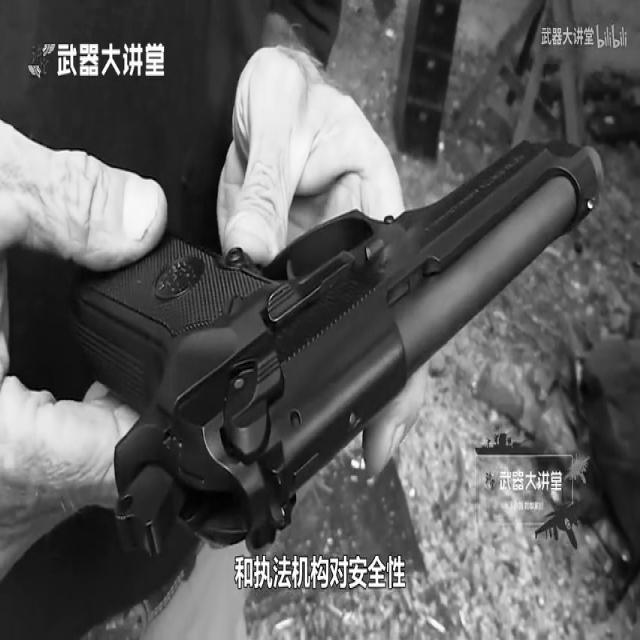Hand-Gun: (75, 67, 598, 597)
